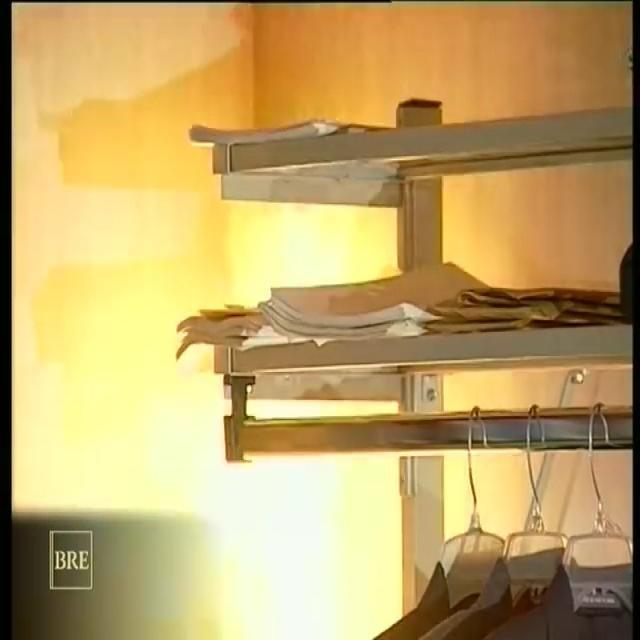Fire: (146, 198, 342, 292)
